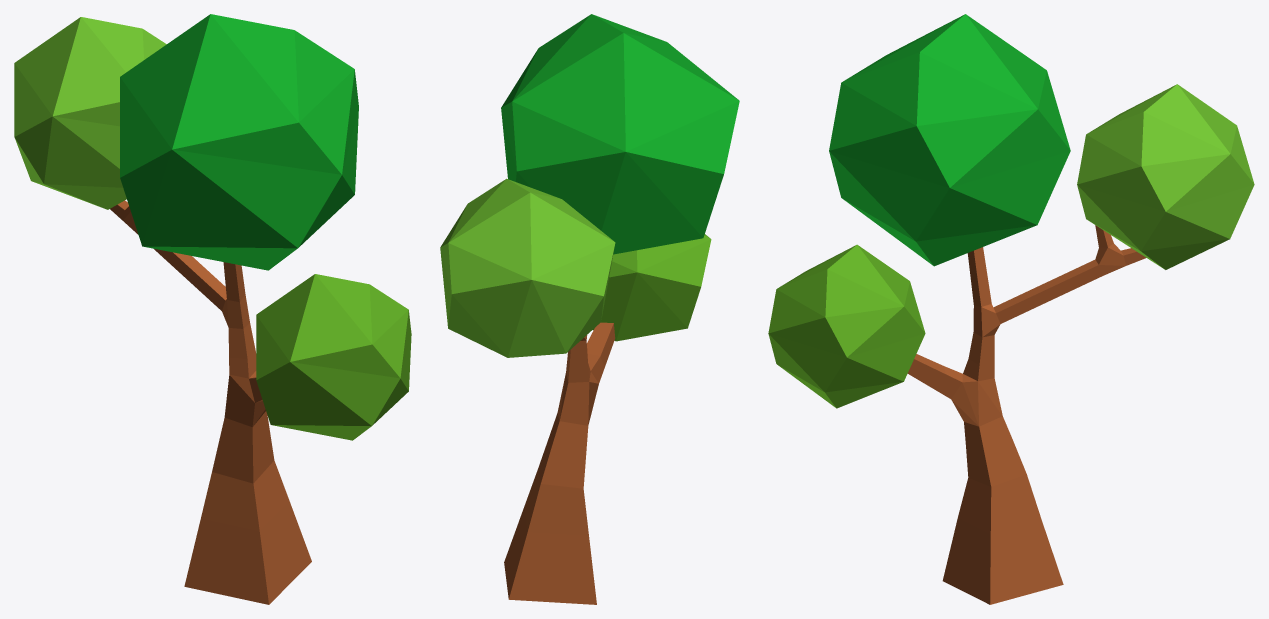
The model's file is tree5.fbx.
The picture shows the model from 3 angles, left to right: view 1: azimuth 30°, elevation 25°; view 2: azimuth 150°, elevation 25°; view 3: azimuth 270°, elevation 25°; orthographic projection. The views are drawn at different scales.
Visible parts, largest first — view 1: Icosphere; view 2: Icosphere; view 3: Icosphere.
Part boxes in pixels (x1=…): Icosphere: x1=14, y1=14, x2=411, y2=604; Icosphere: x1=440, y1=14, x2=739, y2=604; Icosphere: x1=768, y1=14, x2=1254, y2=604.
Size of the model in its own units: 145 by 344 by 277.
